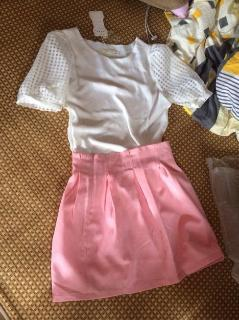short sleeve top: (16, 27, 214, 157)
skirt: (51, 141, 225, 302)
